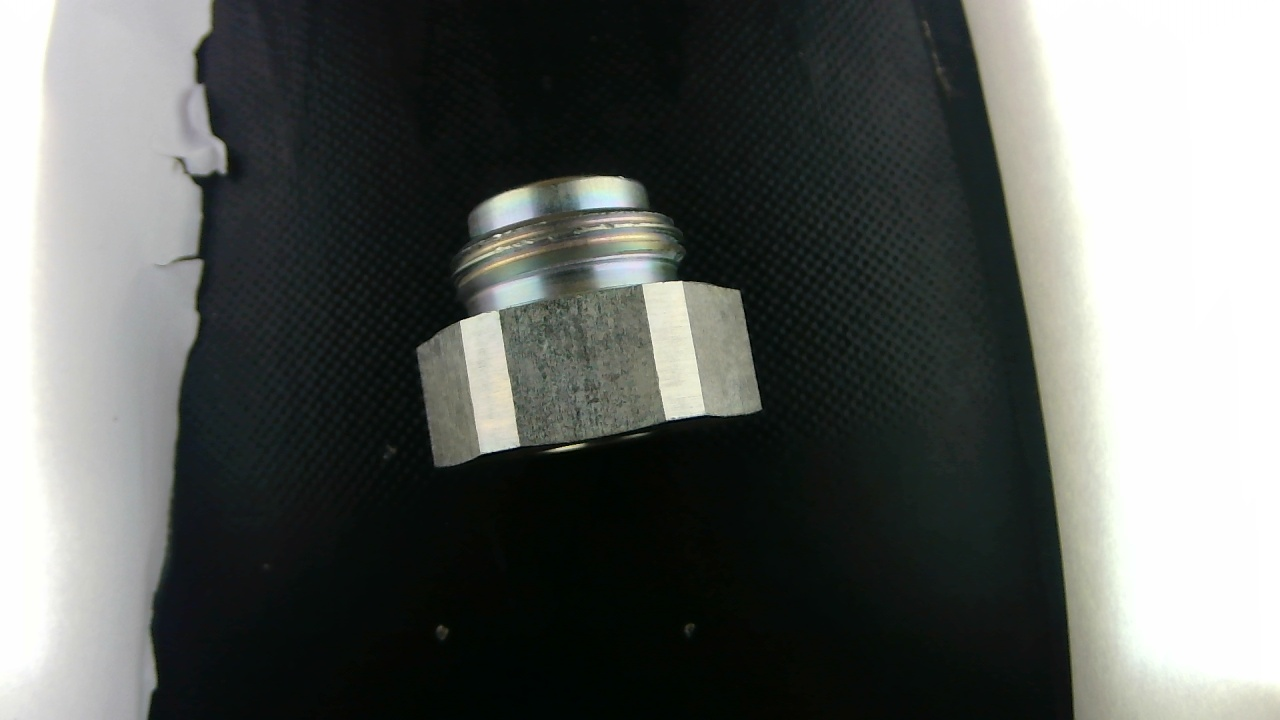Capnut_Surface_Dent: (457, 208, 687, 258), (457, 208, 670, 257)
